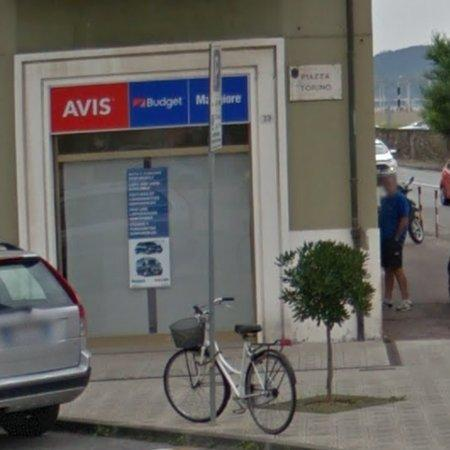bicycles: (215, 325, 296, 436), (164, 306, 211, 423)
